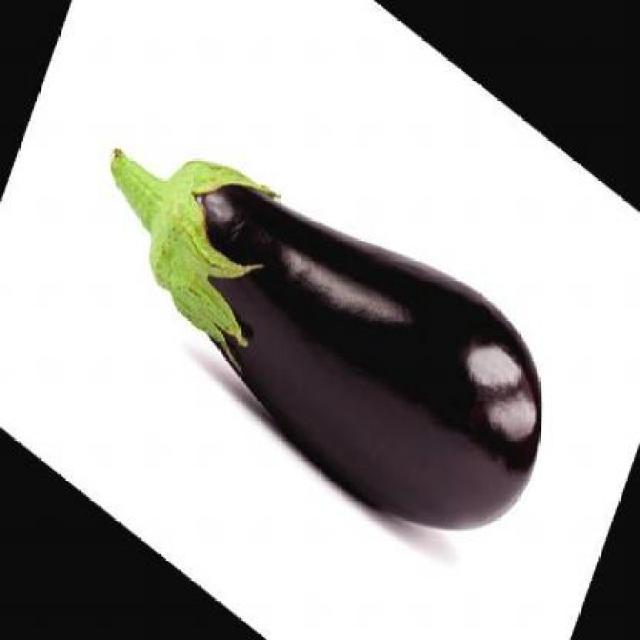eggplant: (106, 142, 548, 530)
